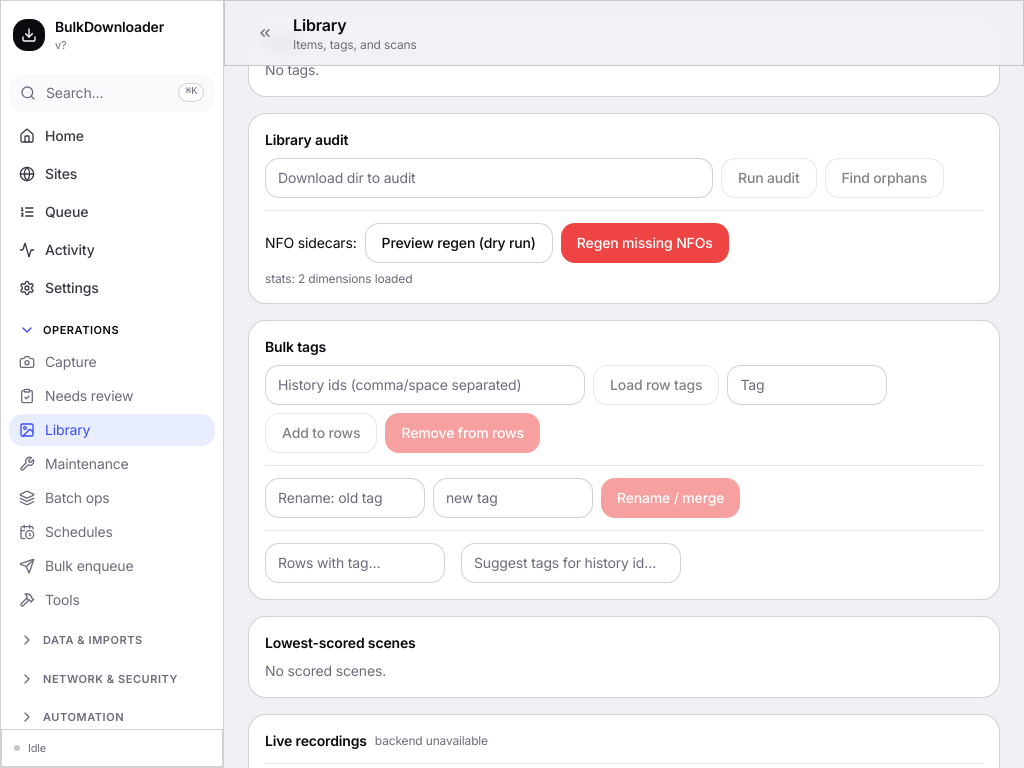
Test: library-fix F10 bulk id box › control: plain ids enable the action with no notice
(page scrolled)
Type "3 4" into the field with placeholder "History ids (comma/space separated)" at (425, 384), box [265, 364, 585, 404]
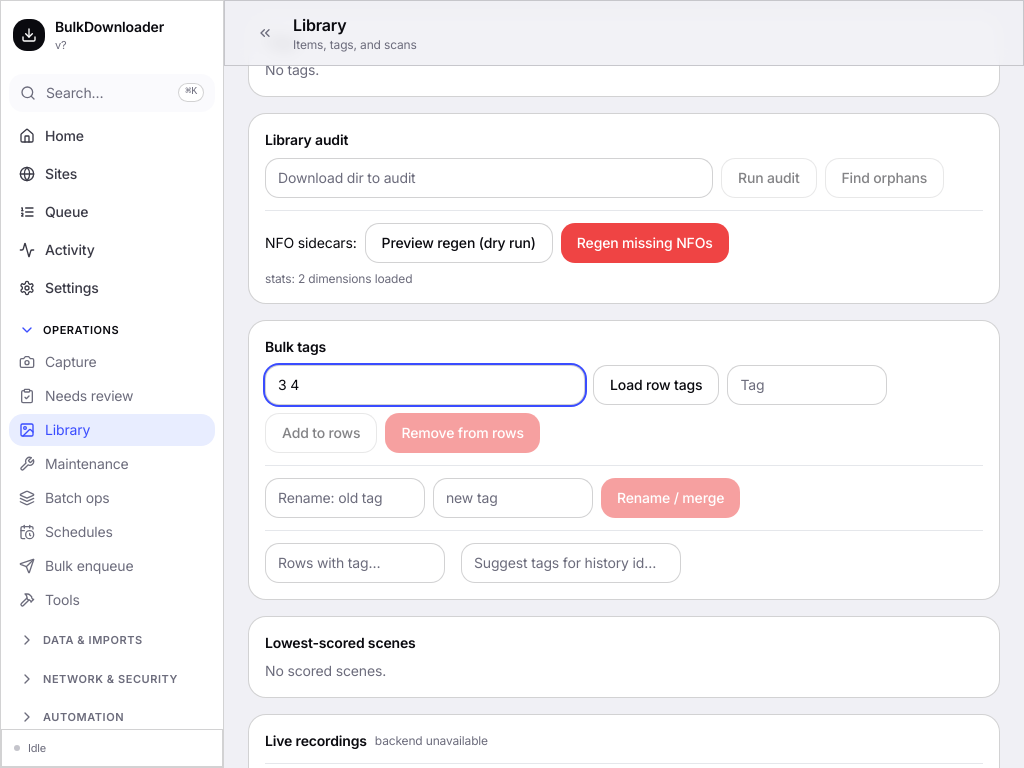
Expected: the button "Load row tags" is enabled, [593, 364, 720, 404]
